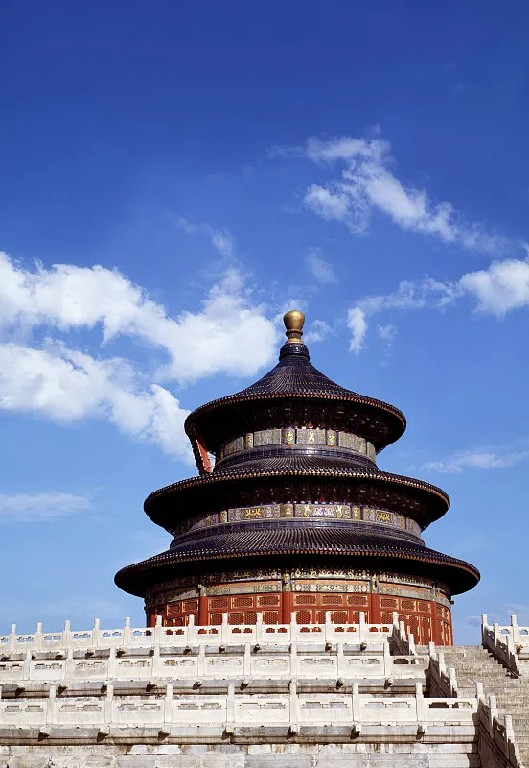Heaven: (114, 313, 482, 650)
